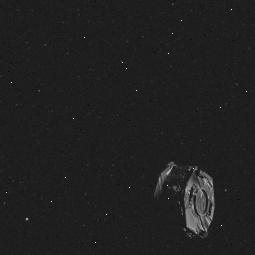lisa_pathfinder: (133, 140, 225, 242)
